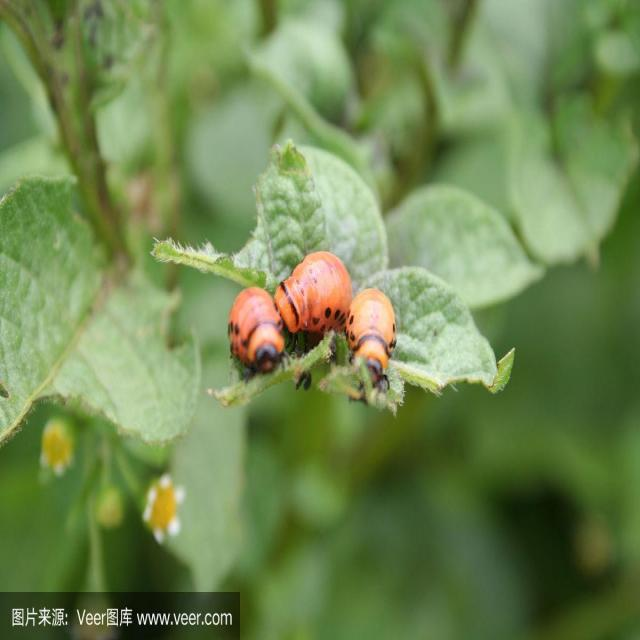ShuCaiHuaBanChong-Larva-: (273, 248, 356, 342), (344, 279, 398, 395), (222, 288, 286, 374)
